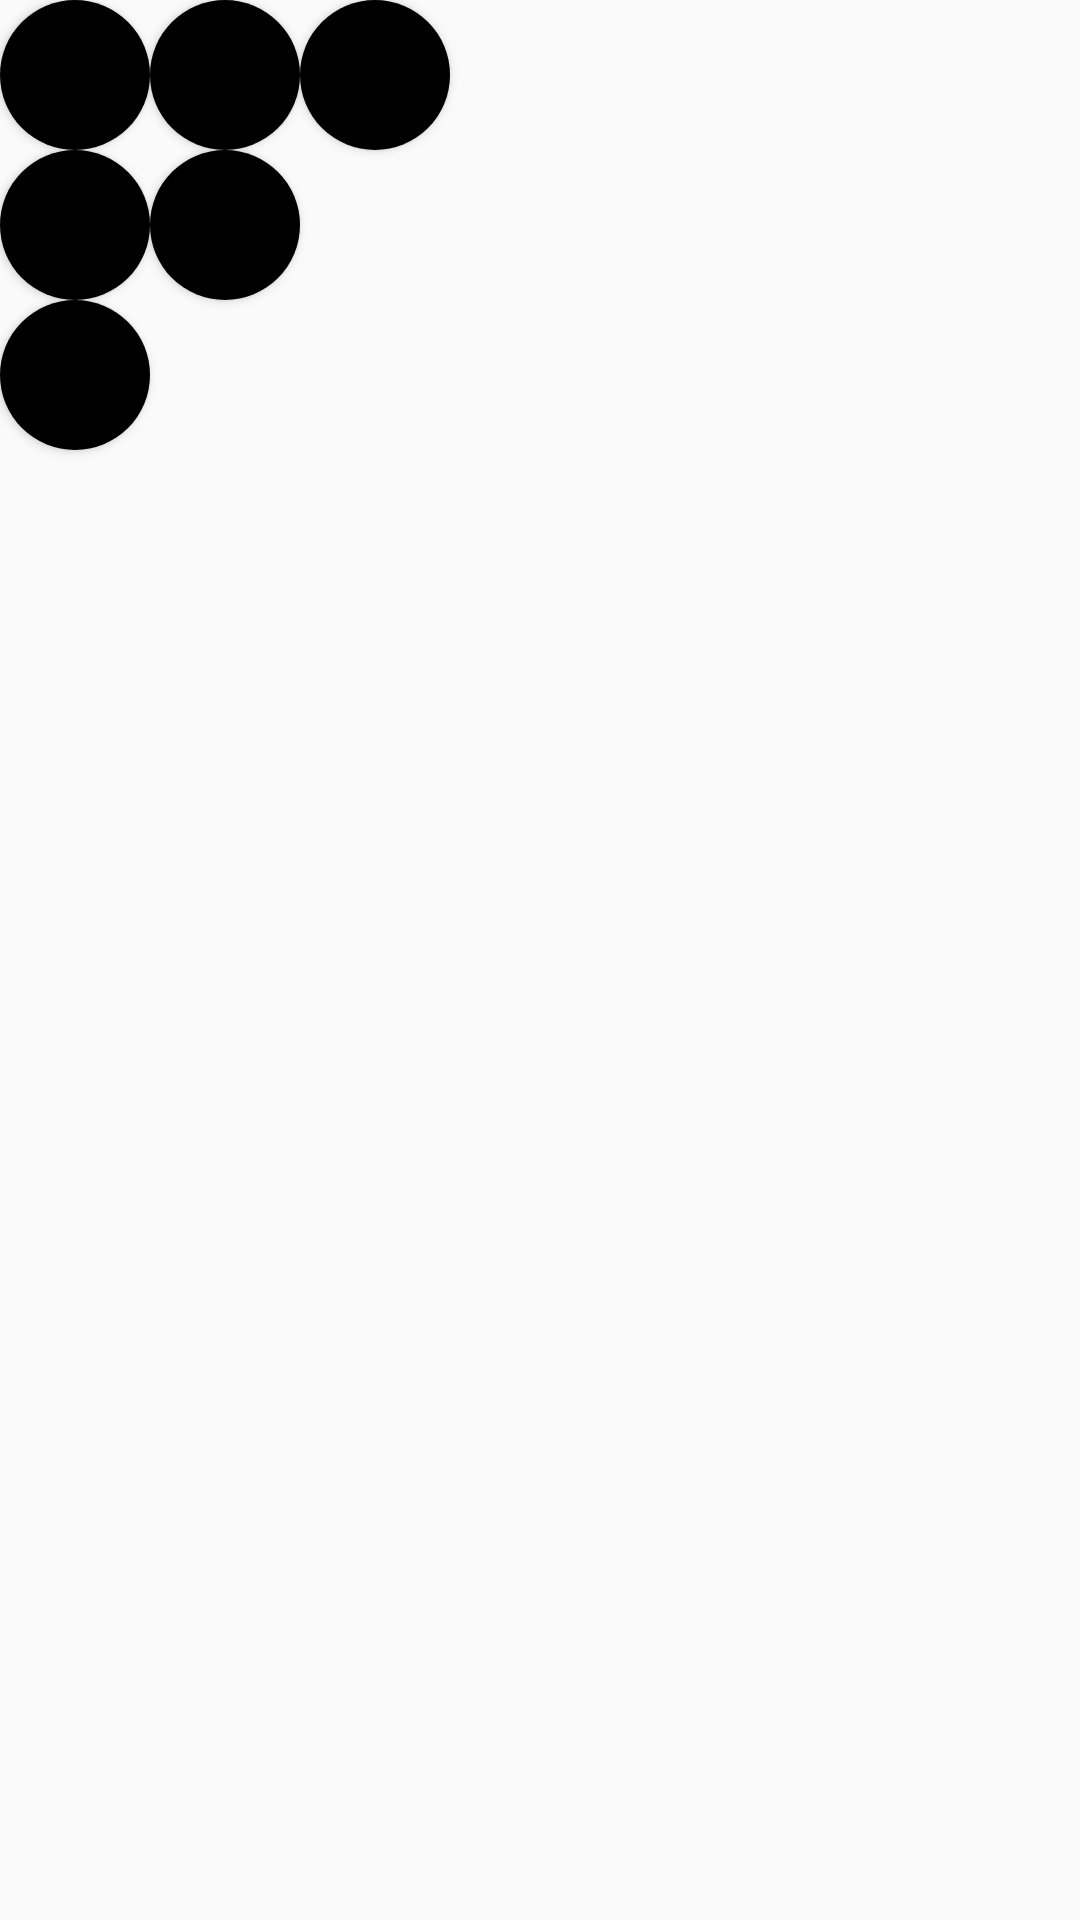

Locate icon controls on the screen. Image size 1080w x 1920h, boxes as detection(x1, y1, x2, y2).
bolinha: detection(0, 0, 150, 150), detection(150, 0, 300, 150), detection(300, 0, 450, 150), detection(0, 150, 150, 300), detection(150, 150, 300, 300), detection(0, 300, 150, 450)
